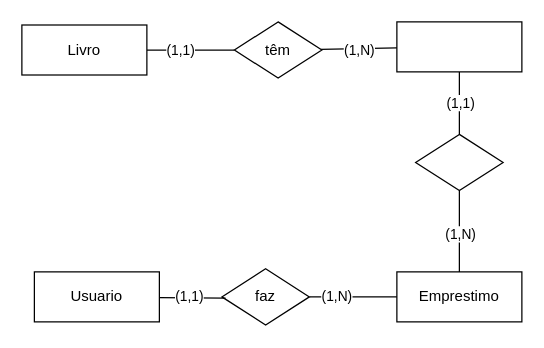
The diagram is 544 pixels wide and 348 high, and some of its shapes have lost their labels. Each missing label, with the box of its shape:
Exemplar: (396, 21, 522, 72)
Relationship: (414, 133, 503, 191)
